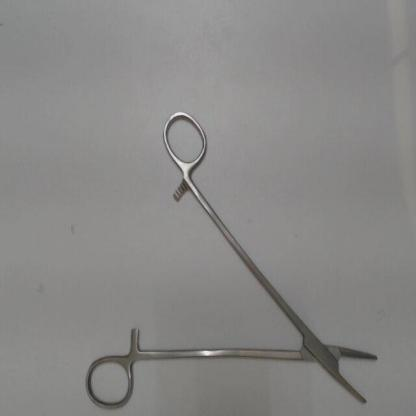8 Mayo Needle Holder: (80, 99, 394, 415)
